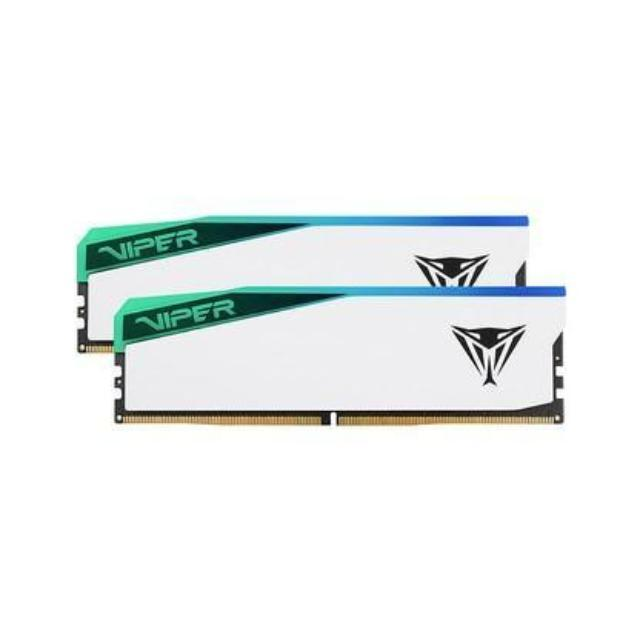RAM: (69, 205, 571, 442)
